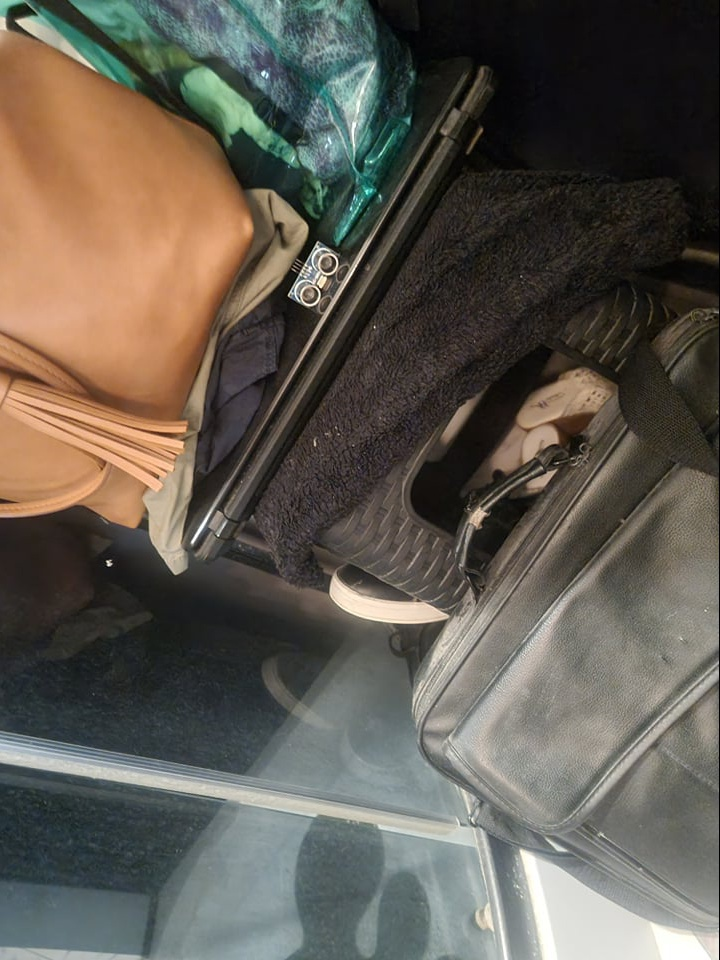SENSOR: (289, 239, 342, 309)
